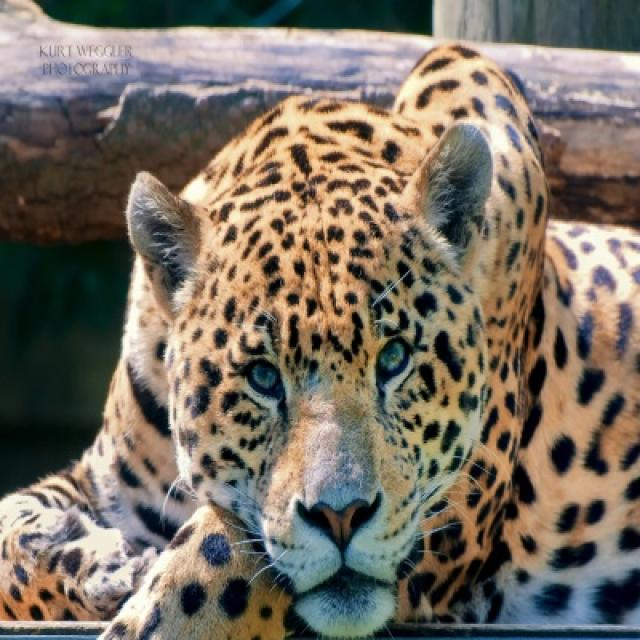Jaguar: (0, 43, 638, 638)
